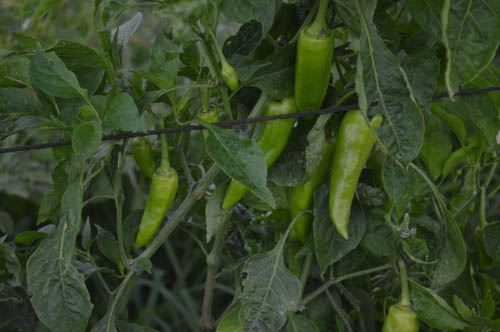ChiliPepper: (221, 103, 296, 206), (331, 111, 379, 244), (291, 139, 330, 239), (296, 33, 336, 120), (132, 178, 174, 248), (134, 142, 157, 177)
